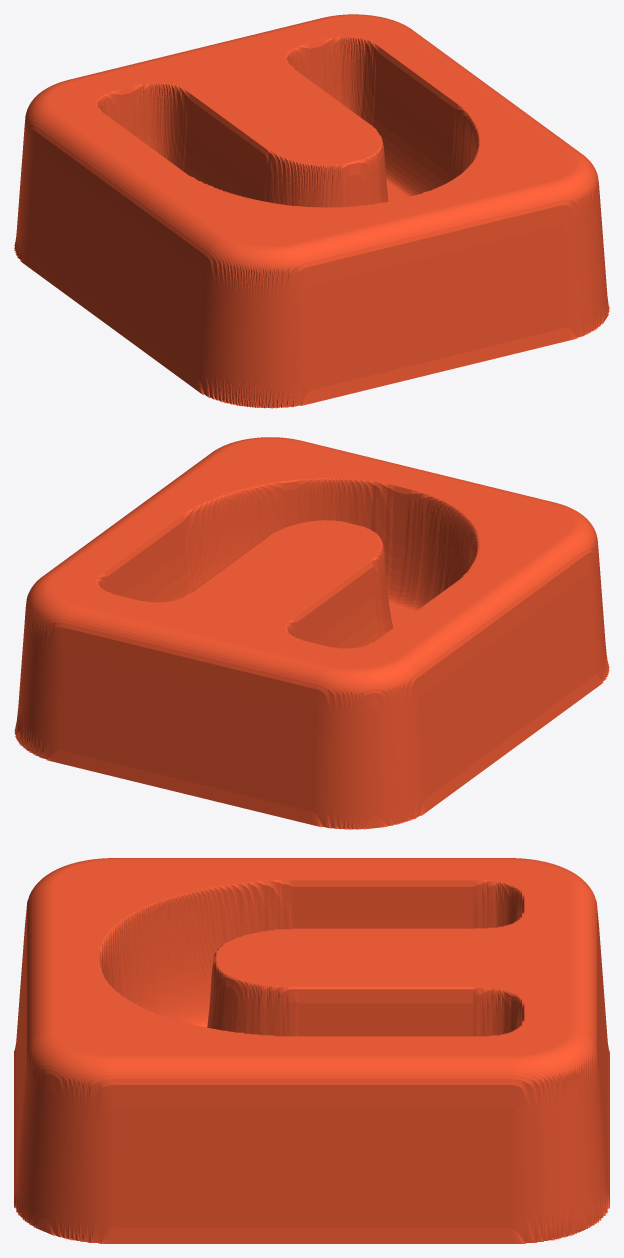
Rendered from mold.glb.
3 views of the same model, one above another, from view 1: azimuth 30°, elevation 25°; view 2: azimuth 150°, elevation 25°; view 3: azimuth 270°, elevation 25° (orthographic). The views are drawn at different scales.
Parts seen in each view (by area): view 1: geometry_0; view 2: geometry_0; view 3: geometry_0.
Boxes of the visible parts, x1=… form: geometry_0: x1=14, y1=14, x2=609, y2=408; geometry_0: x1=14, y1=437, x2=609, y2=829; geometry_0: x1=14, y1=858, x2=609, y2=1243.
Bounding box in the file's own units: 0.0492 × 0.0172 × 0.0542.
